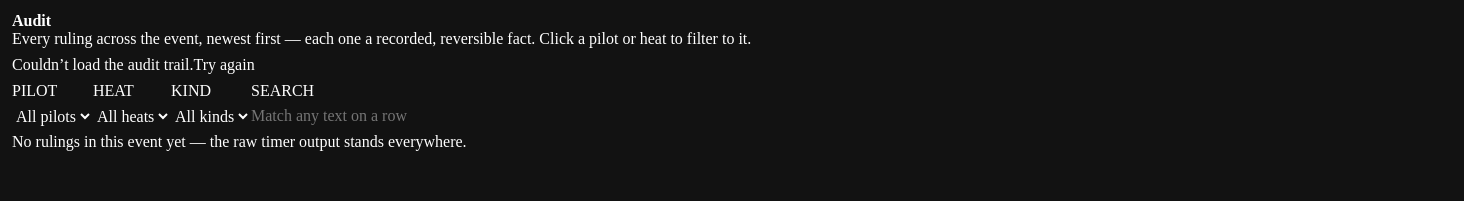
EventAudit — the event-wide audit page › surfaces a visible error with retry when the audit read fails (#340 — no silent [])
The width and height of the screenshot is (1464, 201).
Click the button "Try again". click: (224, 65)
box: 194,48 -> 255,82
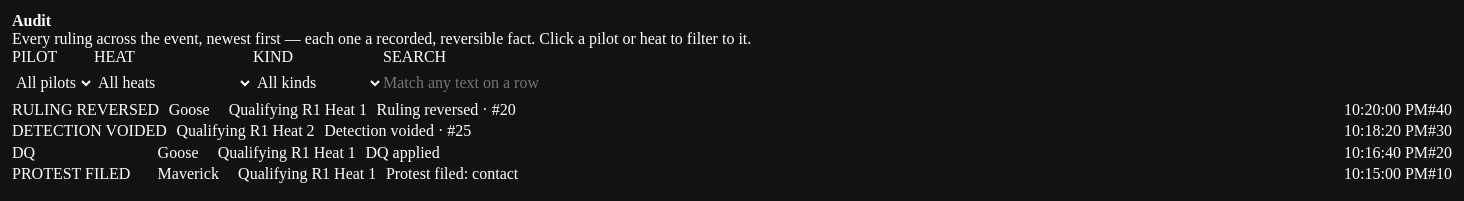
Now the message "Couldn’t load the audit trail. Try again" is gone
Now the number of list items is 4, box 12,100 -> 1452,121; 12,121 -> 1452,142; 12,142 -> 1452,163; 12,163 -> 1452,184
